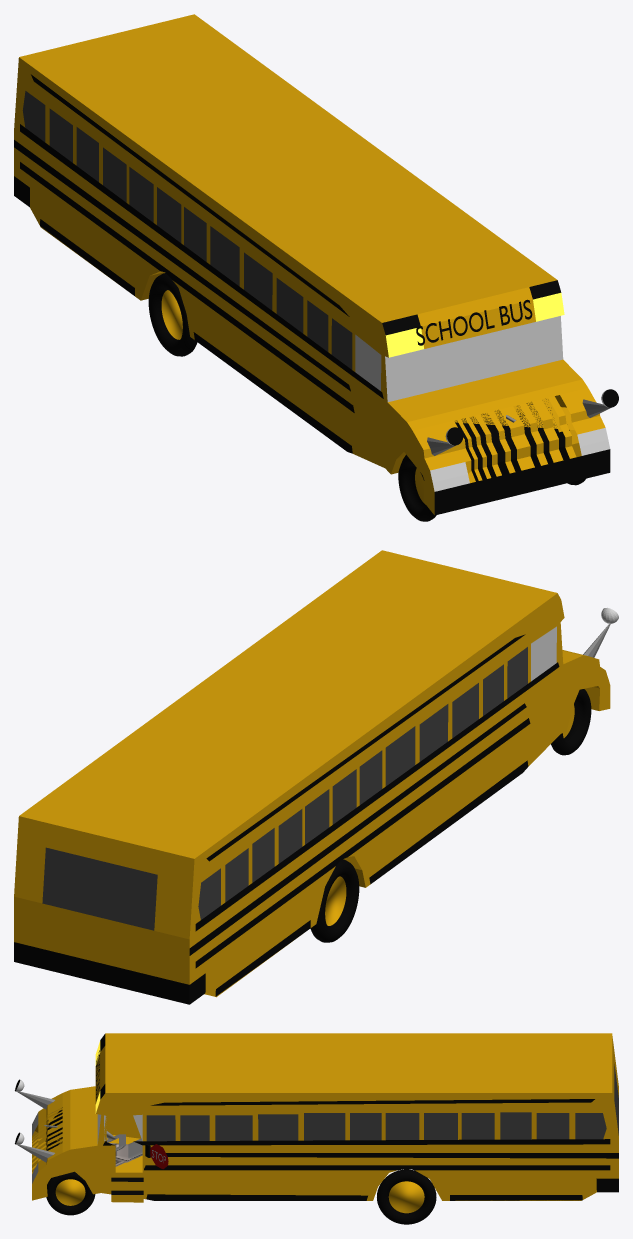
Rendered from schoolBus3.fbx.
The picture shows the model from 3 angles, top to bottom: view 1: azimuth 30°, elevation 25°; view 2: azimuth 150°, elevation 25°; view 3: azimuth 270°, elevation 25°; orthographic projection. The views are drawn at different scales.
Parts seen in each view (by area): view 1: Bus, BackWheels, FrontWheels; view 2: Bus, BackWheels, FrontWheels; view 3: Bus, BackWheels, FrontWheels, Stairs, Chair, Door, Stop.
Part boxes in pixels (x1,y1,x2,y2): Bus: [14, 14, 618, 515]; BackWheels: [148, 273, 197, 356]; FrontWheels: [398, 454, 585, 521]; Bus: [14, 550, 618, 1004]; BackWheels: [310, 859, 359, 942]; FrontWheels: [551, 689, 591, 755]; Bus: [14, 1033, 618, 1200]; BackWheels: [377, 1168, 436, 1224]; FrontWheels: [45, 1141, 95, 1215]; Stairs: [111, 1177, 143, 1202]; Chair: [107, 1134, 142, 1166]; Door: [104, 1114, 143, 1172]; Stop: [145, 1144, 168, 1169].
Size of the model in its own units: 268 by 233 by 962.
